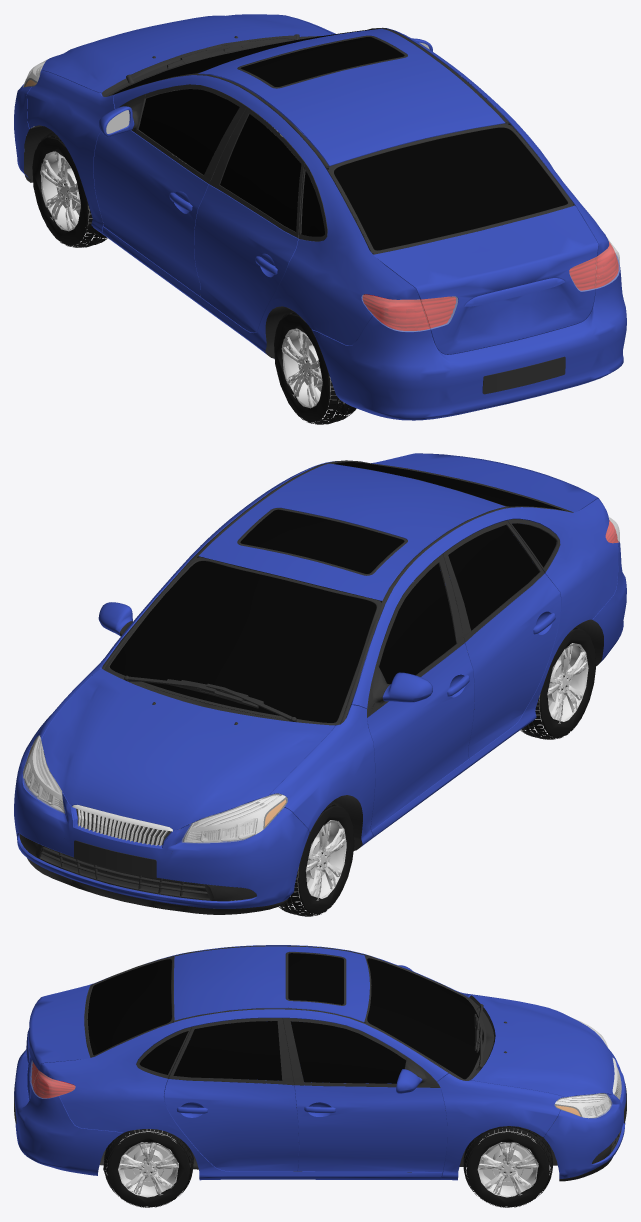
The model's file is rune_sedan.glb.
3 views of the same model, one above another, from view 1: azimuth 30°, elevation 25°; view 2: azimuth 150°, elevation 25°; view 3: azimuth 270°, elevation 25° (orthographic). The views are drawn at different scales.
Visible parts, largest first — view 1: body_shell, glass_side, grille_front, wheels_tires, wheels_rims, glass_rear, glass_quarter, lights_rear, wheel_arch_left, trim_rear_detail, lights_rear_inner, mirror_left (+1 smaller); view 2: body_shell, glass_side, grille_front, glass_quarter, wheels_tires, wheels_rims, glass_front, wheel_arch_right, trim_rear_black, trim_body_chrome, underbody_metal, trim_chrome (+5 smaller); view 3: body_shell, glass_side, grille_front, wheels_tires, wheels_rims, glass_quarter, glass_front, glass_rear, wheel_arch_right, wheel_arch_left, lights_rear, trim_window_black (+1 smaller).
Boxes of the visible parts, x1,y1,x2,y2 form: body_shell: (14, 14, 626, 420); glass_side: (112, 29, 567, 253); grille_front: (24, 27, 574, 358); wheels_tires: (32, 132, 356, 424); wheels_rims: (40, 128, 344, 408); glass_rear: (361, 236, 619, 331); glass_quarter: (240, 37, 404, 86); lights_rear: (362, 242, 618, 330); wheel_arch_left: (328, 124, 573, 253); trim_rear_detail: (482, 356, 565, 394); lights_rear_inner: (420, 257, 595, 328); mirror_left: (126, 42, 263, 83); body_shell: (14, 453, 626, 908); glass_side: (109, 462, 564, 722); grille_front: (19, 460, 603, 914); glass_quarter: (240, 509, 404, 573); wheels_tires: (279, 625, 595, 916); wheels_rims: (155, 643, 588, 900); glass_front: (22, 735, 287, 843); wheel_arch_right: (105, 557, 381, 725); trim_rear_black: (74, 840, 156, 878); trim_body_chrome: (36, 739, 279, 842); underbody_metal: (24, 763, 256, 841); trim_chrome: (77, 804, 169, 845); body_shell: (14, 945, 626, 1180); glass_side: (87, 956, 483, 1083); grille_front: (84, 945, 621, 1181); wheels_tires: (103, 1126, 552, 1207); wheels_rims: (118, 1128, 538, 1197); glass_quarter: (288, 953, 343, 1004); glass_front: (554, 1018, 612, 1118); glass_rear: (30, 1060, 75, 1098); wheel_arch_right: (364, 956, 486, 1080); wheel_arch_left: (85, 956, 173, 1057); lights_rear: (33, 1071, 75, 1098); trim_window_black: (285, 952, 346, 1005).
Bounding box in the file's own units: 2.03 × 1.48 × 4.38.
